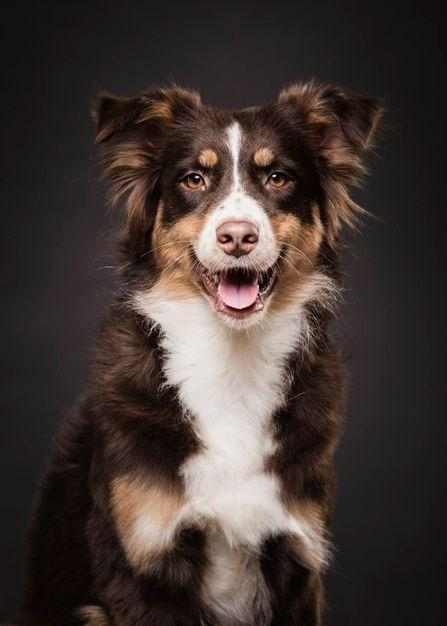adult_dog: (24, 80, 384, 626)
